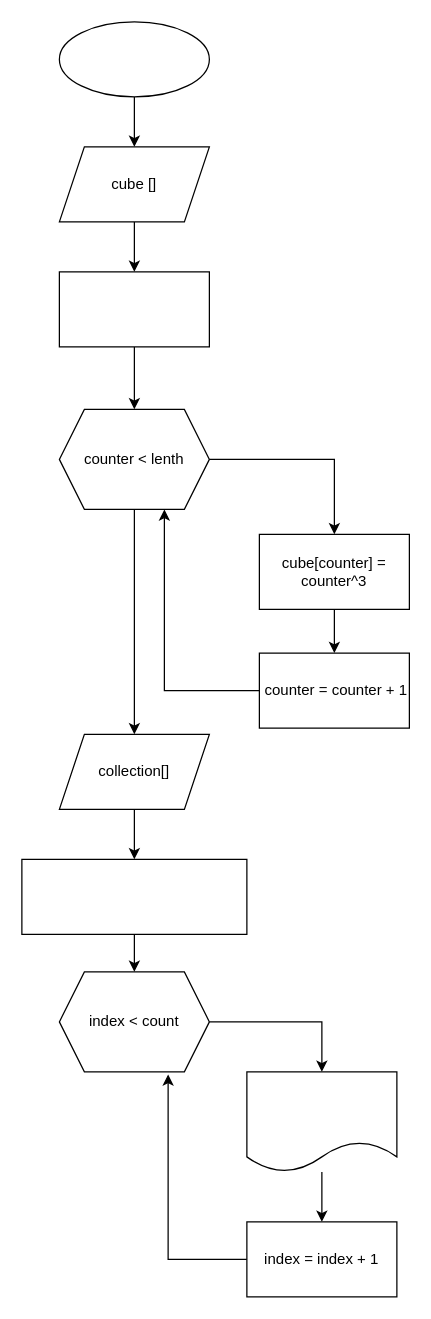
Image size: 431x1319. Some labels were removed from this diagram. The shapes that lost their labels are listed below. From the top down, each one's centre as x and y in pixels, then its label:
point 133,59: Start
point 133,309: counter = 0 lenth = cube.lenth
point 134,896: index = 0 count = collection.lenth
point 321,1121: collection[index]
